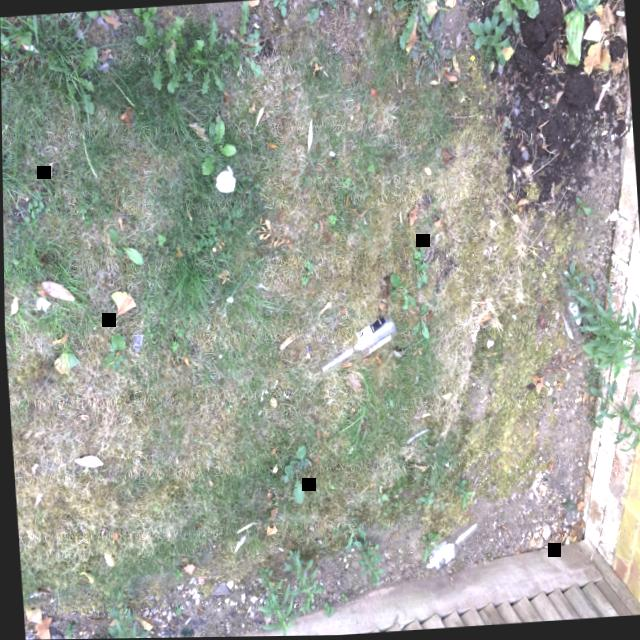Cigarette: (573, 398, 581, 404), (512, 173, 515, 184)
Glass bottle: (320, 313, 396, 375), (423, 522, 477, 575), (556, 273, 584, 345)
Plastic film: (131, 334, 143, 352)
Unlabeled litter: (215, 165, 235, 193), (405, 430, 427, 444), (20, 43, 38, 52), (11, 40, 22, 46)
